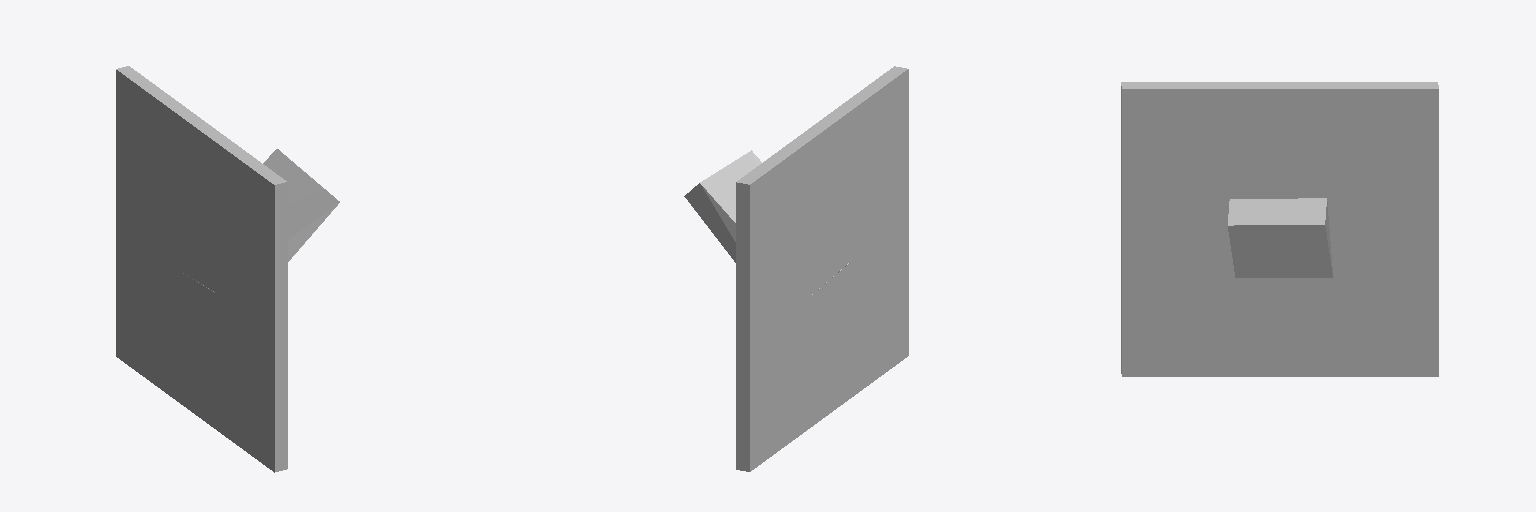
File: CreatedLightSwitch.obj
3 views of the same model, side by side, from view 1: azimuth 30°, elevation 25°; view 2: azimuth 150°, elevation 25°; view 3: azimuth 270°, elevation 25° (orthographic).
Visible parts, largest first — view 1: Cube_Cube.002; view 2: Cube_Cube.002; view 3: Cube_Cube.002.
Part boxes in pixels (left/top/right/bottom): Cube_Cube.002: left=116, top=66, right=339, bottom=472; Cube_Cube.002: left=684, top=66, right=908, bottom=471; Cube_Cube.002: left=1121, top=82, right=1438, bottom=376.
Bounding box in the file's own units: 0.8907 × 2 × 2.01.